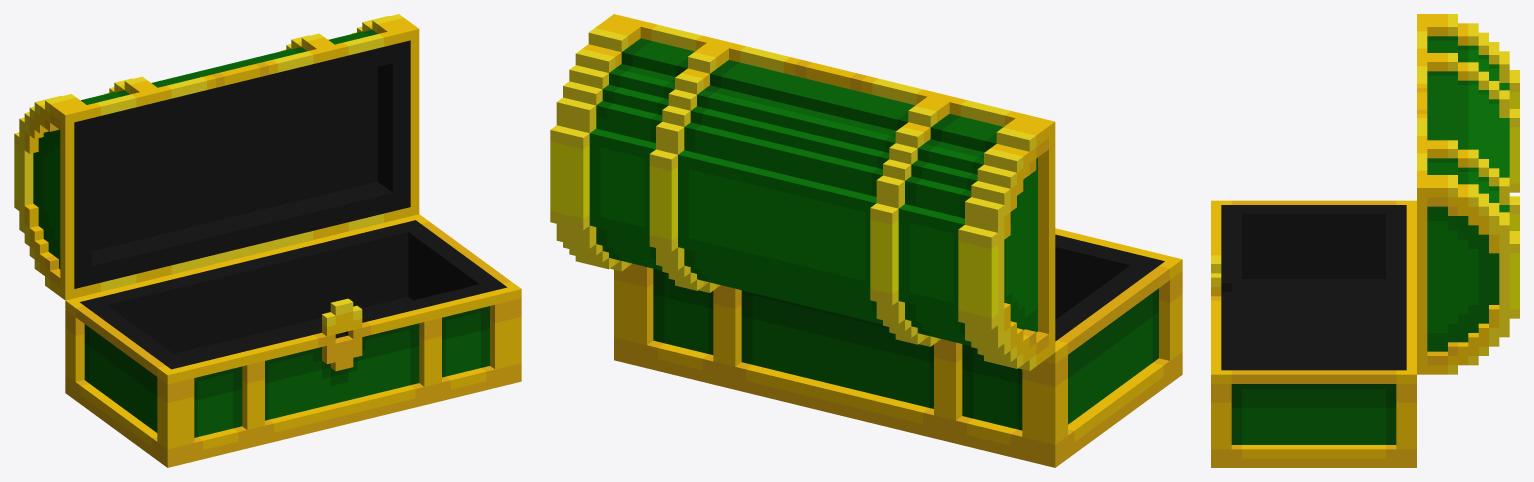
Rendered from OpenChest.obj.
3 views of the same model, side by side, from view 1: azimuth 30°, elevation 25°; view 2: azimuth 150°, elevation 25°; view 3: azimuth 270°, elevation 25° (orthographic). The views are drawn at different scales.
Size of the model in its own units: 4 by 3 by 3.
1 material, 1 textured.
